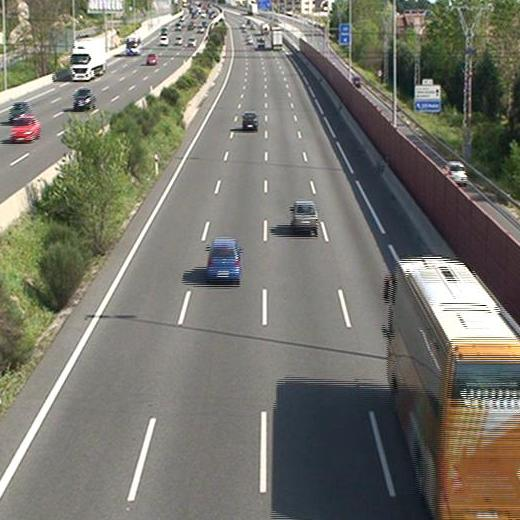bus: (387, 258, 520, 518)
car: (205, 238, 241, 279), (292, 200, 318, 231), (242, 112, 258, 132)
